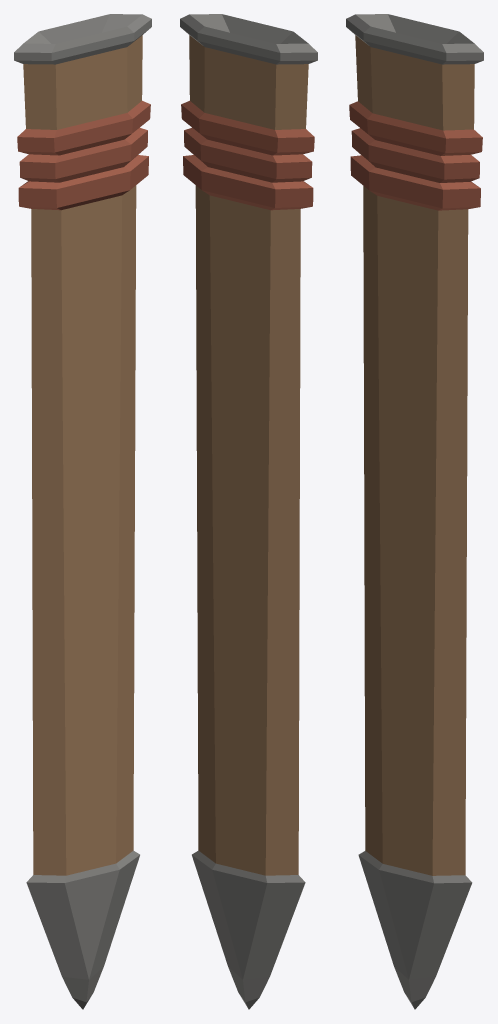
Rendered from SM_pwe_medieval_sword_scabbard_04.fbx.
The picture shows the model from 3 angles, left to right: view 1: azimuth 30°, elevation 25°; view 2: azimuth 150°, elevation 25°; view 3: azimuth 330°, elevation 25°; orthographic projection.
Parts seen in each view (by area): view 1: SM_pwe_medieval_sword_scabbard_04; view 2: SM_pwe_medieval_sword_scabbard_04; view 3: SM_pwe_medieval_sword_scabbard_04.
Boxes of the visible parts, x1,y1,x2,y2 form: SM_pwe_medieval_sword_scabbard_04: (14, 14, 151, 1009); SM_pwe_medieval_sword_scabbard_04: (180, 14, 317, 1009); SM_pwe_medieval_sword_scabbard_04: (346, 14, 483, 1009).
Size of the model in its own units: 10.39 by 70.62 by 2.58.
